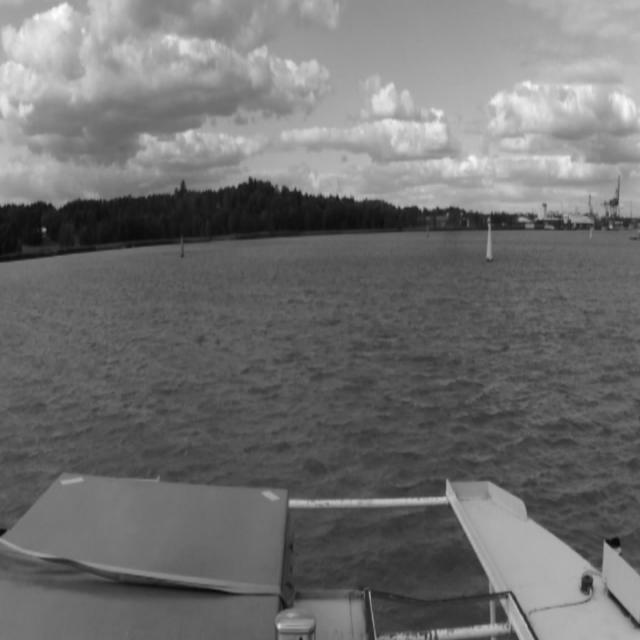buoy: (486, 219, 494, 262), (423, 216, 432, 244), (587, 214, 593, 243), (180, 234, 184, 257)
